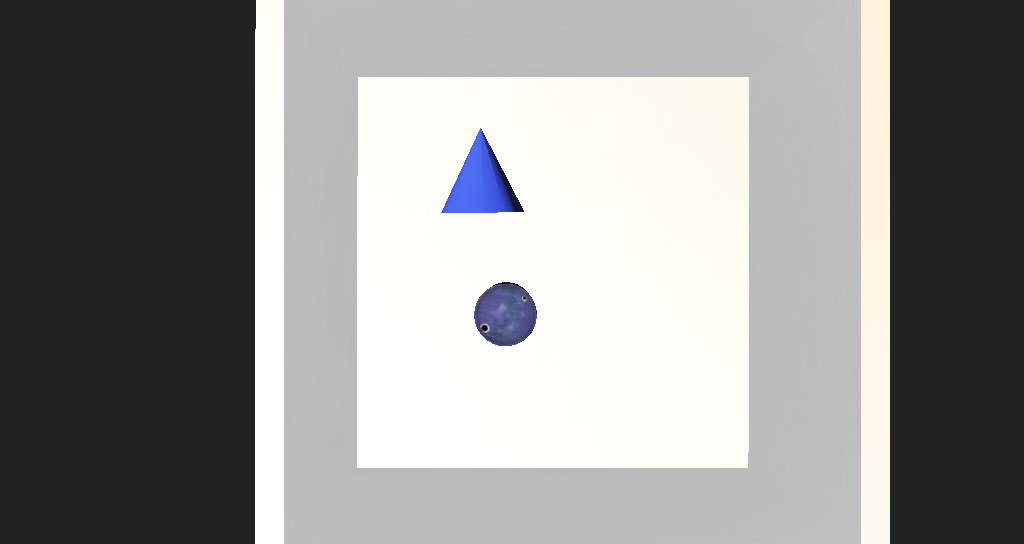cone: (448, 274, 495, 308)
cylinder: (411, 181, 478, 239)
sphere: (408, 84, 468, 126)
